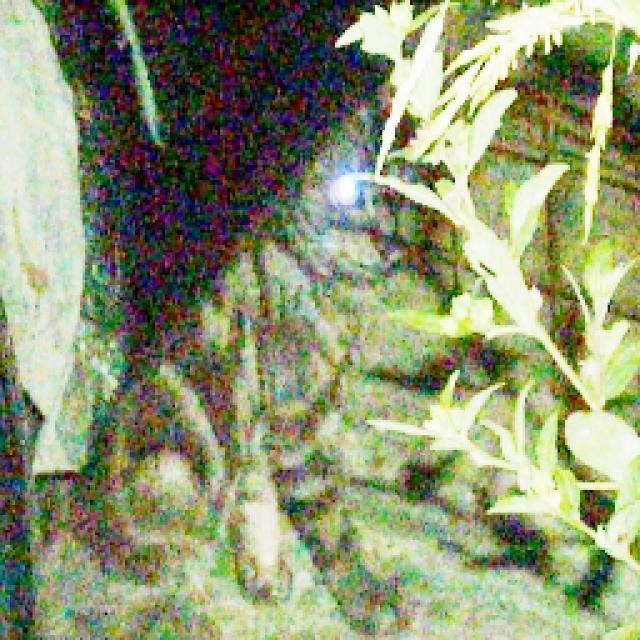cat: (70, 100, 438, 634)
